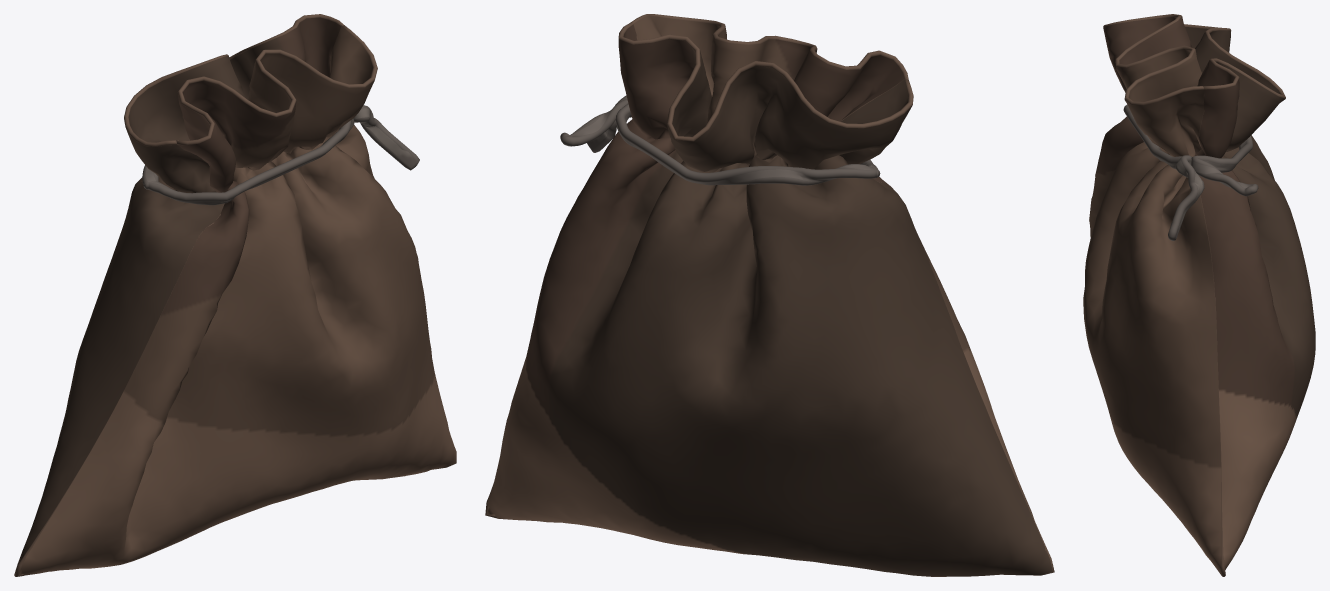
The model's file is coin_purse.glb.
The picture shows the model from 3 angles, left to right: view 1: azimuth 30°, elevation 25°; view 2: azimuth 150°, elevation 25°; view 3: azimuth 270°, elevation 25°; orthographic projection. The views are drawn at different scales.
Visible parts, largest first — view 1: Object_3, Object_2, Object_4, Object_5; view 2: Object_3, Object_2, Object_4, Object_5; view 3: Object_3, Object_2, Object_4, Object_5.
Boxes of the visible parts, bbox=[...] form: Object_3: bbox=[15, 17, 456, 575]; Object_2: bbox=[14, 14, 456, 576]; Object_4: bbox=[142, 105, 419, 205]; Object_5: bbox=[145, 108, 416, 204]; Object_3: bbox=[486, 15, 1052, 576]; Object_2: bbox=[485, 14, 1054, 576]; Object_4: bbox=[560, 95, 880, 185]; Object_5: bbox=[566, 109, 875, 184]; Object_3: bbox=[1083, 16, 1315, 575]; Object_2: bbox=[1103, 14, 1285, 576]; Object_4: bbox=[1123, 104, 1258, 241]; Object_5: bbox=[1125, 114, 1253, 237].
Bounding box in the file's own units: 166 × 158 × 75.8.
Materials: 2 (2 with a texture image).
